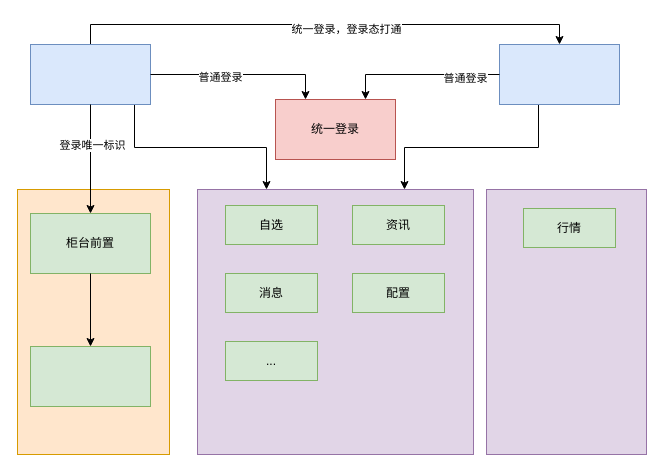
The diagram is 664 pixels wide and 472 high, and some of its shapes have lost their labels. The shapes that lost their labels are listed below. From the top down, each one's centre as x and y in pixels, then its label:
At [90,74]: "原生APP".
At [559,74]: "H5/小程序".
At [90,376]: "柜台".
